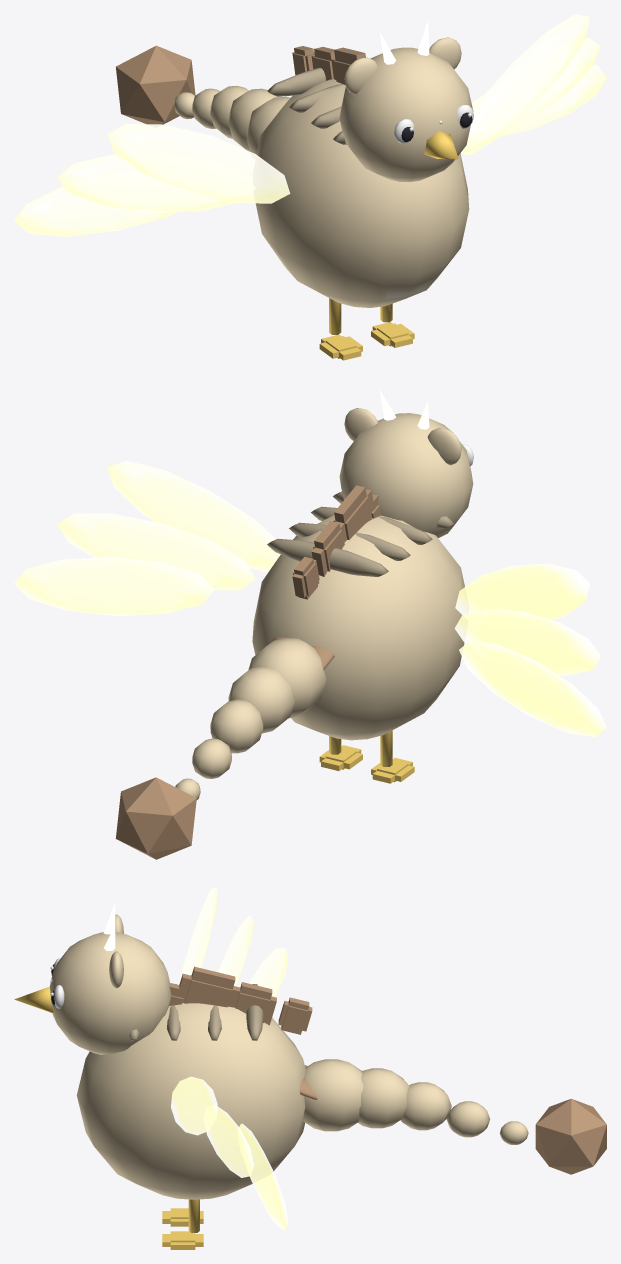
File: desert_penguin_05.glb
3 renders of one model, top to bottom at view 1: azimuth 30°, elevation 25°; view 2: azimuth 150°, elevation 25°; view 3: azimuth 270°, elevation 25°, orthographic. The views are drawn at different scales.
Parts seen in each view (by area): view 1: ball; view 2: ball; view 3: ball.
Boxes of the visible parts, x1=… form: ball: x1=14, y1=14, x2=606, y2=360; ball: x1=14, y1=390, x2=606, y2=859; ball: x1=14, y1=888, x2=606, y2=1249.
Size of the model in its own units: 2.76 by 1.54 by 2.6.
